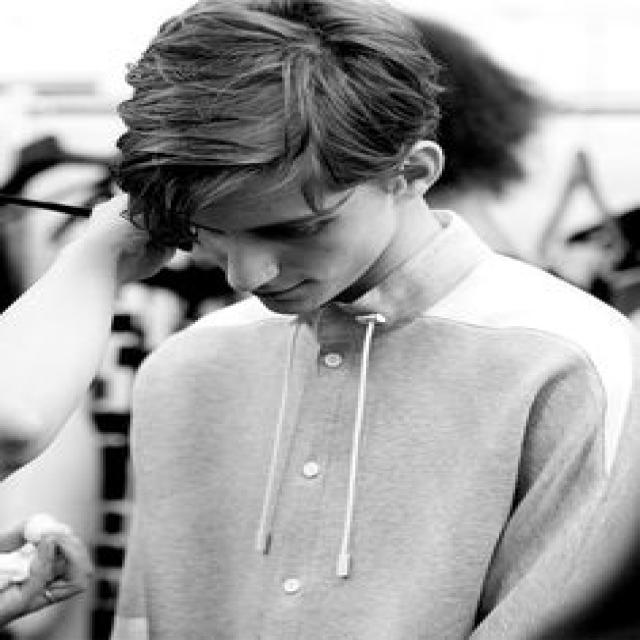9_cabeza_baja: (114, 0, 446, 313)
